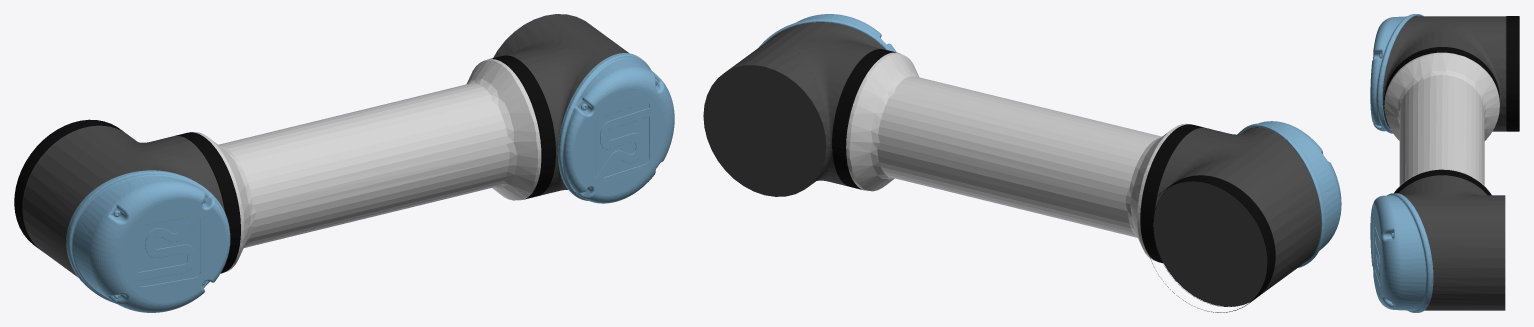
File: Cell01__Robots__R02_RailSystem__R02__Geometry__rail_base__rail_carriage__r02_shoulder_link__r02_upper_arm_link.glb
3 views of the same model, side by side, from view 1: azimuth 30°, elevation 25°; view 2: azimuth 150°, elevation 25°; view 3: azimuth 270°, elevation 25° (orthographic). The views are drawn at different scales.
Parts seen in each view (by area): view 1: /World/Cell01/Robots/R02_RailSystem/R02/Geometry/rail_base/r (×4); view 2: /World/Cell01/Robots/R02_RailSystem/R02/Geometry/rail_base/r (×4); view 3: /World/Cell01/Robots/R02_RailSystem/R02/Geometry/rail_base/r (×4).
Part boxes in pixels (x1=…): /World/Cell01/Robots/R02_RailSystem/R02/Geometry/rail_base/r (×4): x1=14, y1=14, x2=674, y2=312; /World/Cell01/Robots/R02_RailSystem/R02/Geometry/rail_base/r (×4): x1=703, y1=14, x2=1341, y2=312; /World/Cell01/Robots/R02_RailSystem/R02/Geometry/rail_base/r (×4): x1=1370, y1=14, x2=1519, y2=312.
Bounding box in the file's own units: 0.5452 × 0.1202 × 0.1496.
